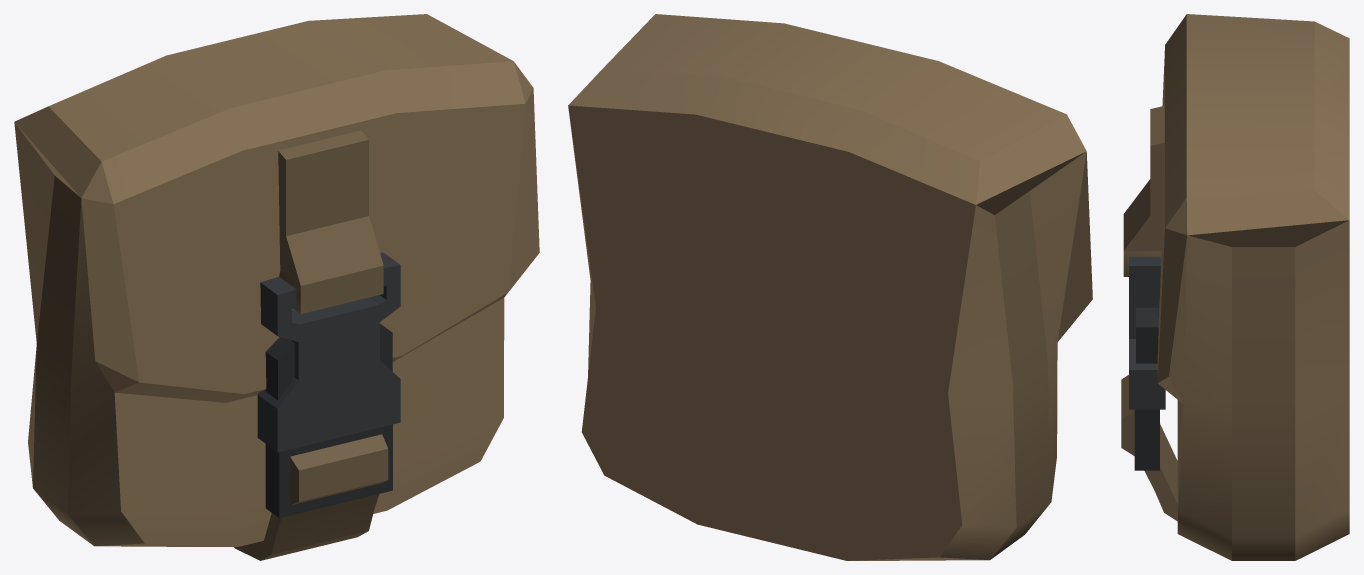
Rendered from SM_Chr_Attach_Pouch_01.fbx.
The picture shows the model from 3 angles, left to right: view 1: azimuth 30°, elevation 25°; view 2: azimuth 150°, elevation 25°; view 3: azimuth 270°, elevation 25°; orthographic projection. The views are drawn at different scales.
Parts seen in each view (by area): view 1: SM_Chr_Attach_Pouch_01; view 2: SM_Chr_Attach_Pouch_01; view 3: SM_Chr_Attach_Pouch_01.
Boxes of the visible parts, x1,y1,x2,y2 form: SM_Chr_Attach_Pouch_01: (14, 14, 539, 560); SM_Chr_Attach_Pouch_01: (568, 14, 1092, 560); SM_Chr_Attach_Pouch_01: (1121, 14, 1349, 560).
Size of the model in its own units: 13.77 by 13.53 by 6.6.
